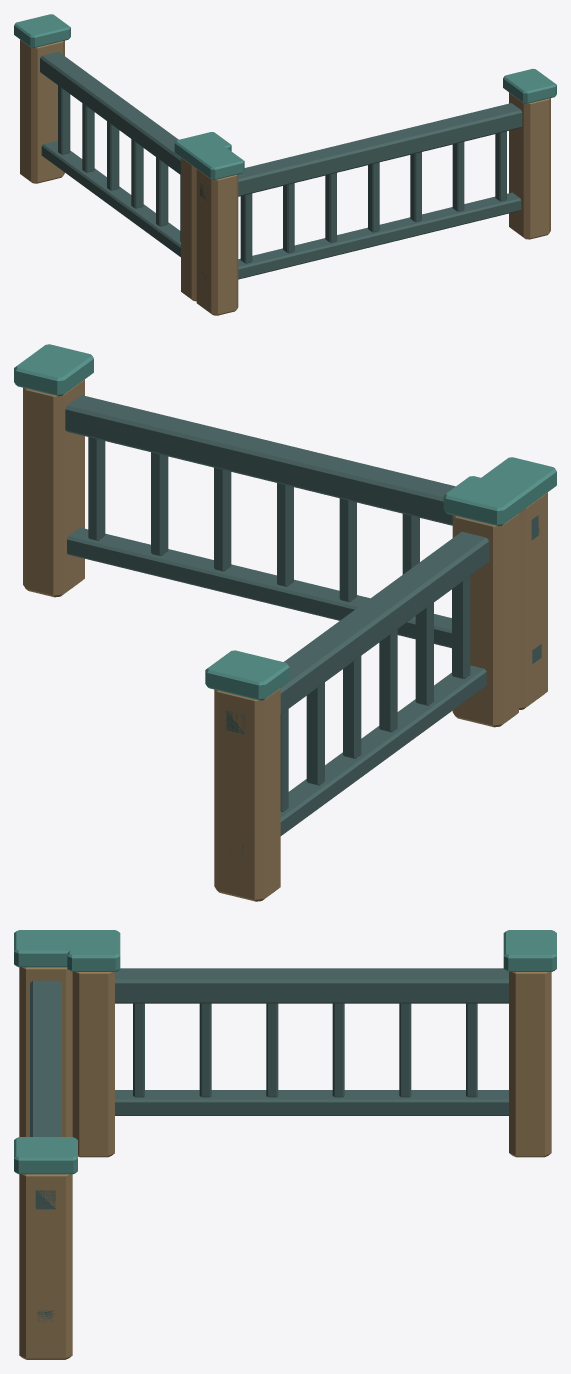
File: railing-corner.glb
The picture shows the model from 3 angles, top to bottom: view 1: azimuth 30°, elevation 25°; view 2: azimuth 150°, elevation 25°; view 3: azimuth 270°, elevation 25°; orthographic projection. The views are drawn at different scales.
Parts seen in each view (by area): view 1: railing-corner__body; view 2: railing-corner__body; view 3: railing-corner__body.
Boxes of the visible parts, x1,y1,x2,y2 form: railing-corner__body: (14,14,556,315); railing-corner__body: (14,344,556,901); railing-corner__body: (14,930,556,1359).
Size of the model in its own units: 2.04 by 0.85 by 2.04.
